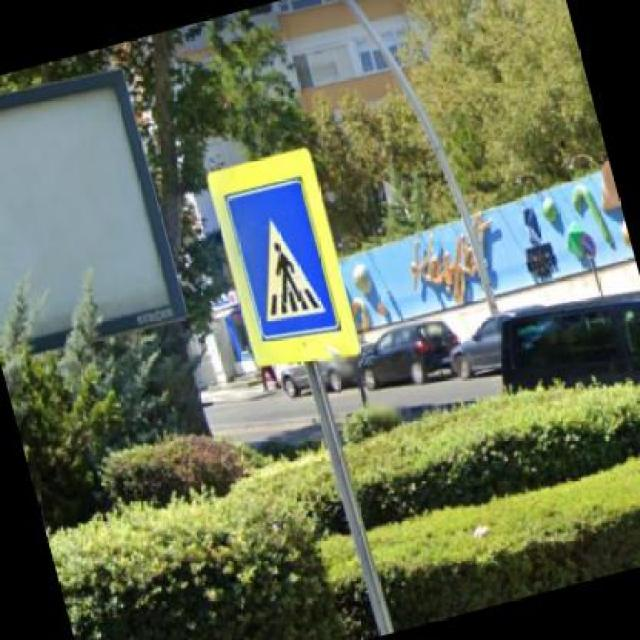yaya: (225, 177, 338, 339)
